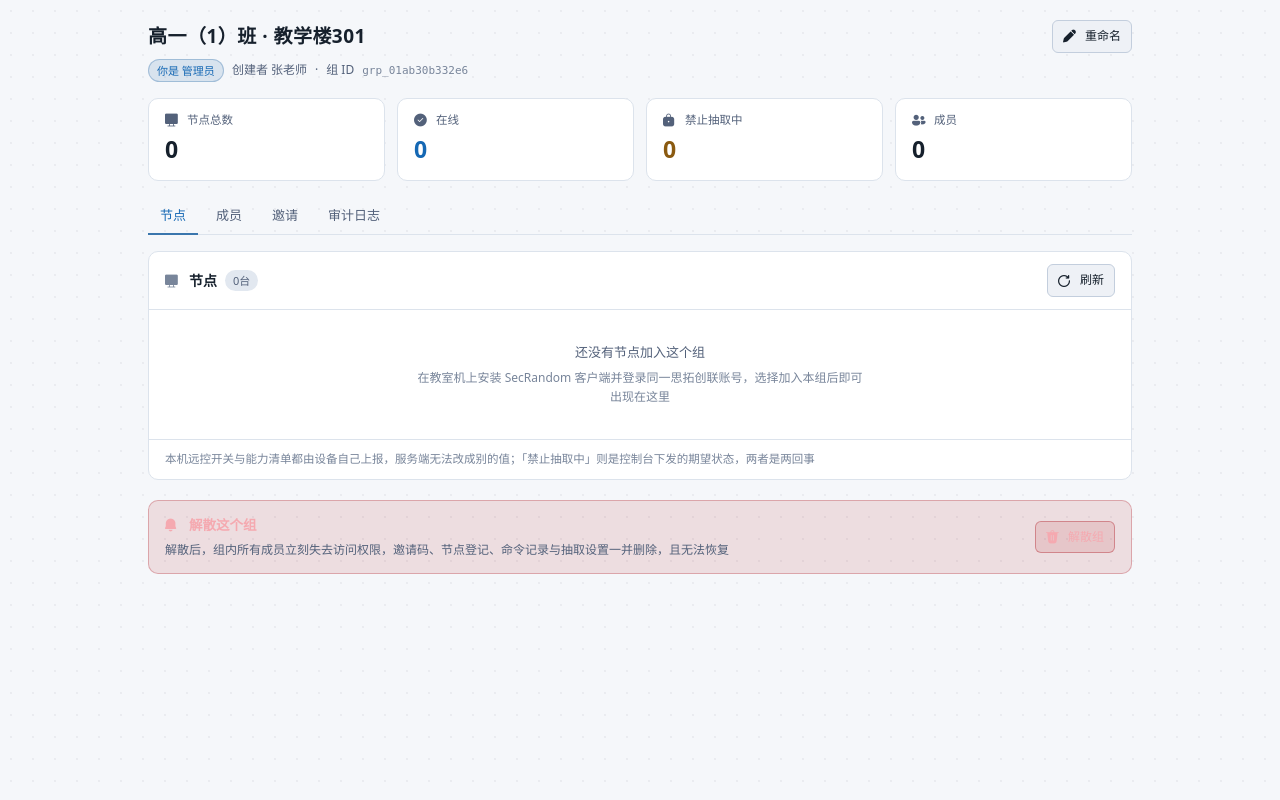
Test: GroupDetailView 转让创建者 › 组记录说我是创建者时，即使成员角色不是 owner 也显示卡片
Click the button with test id "tab-members": point(229, 216) [204, 197, 254, 235]
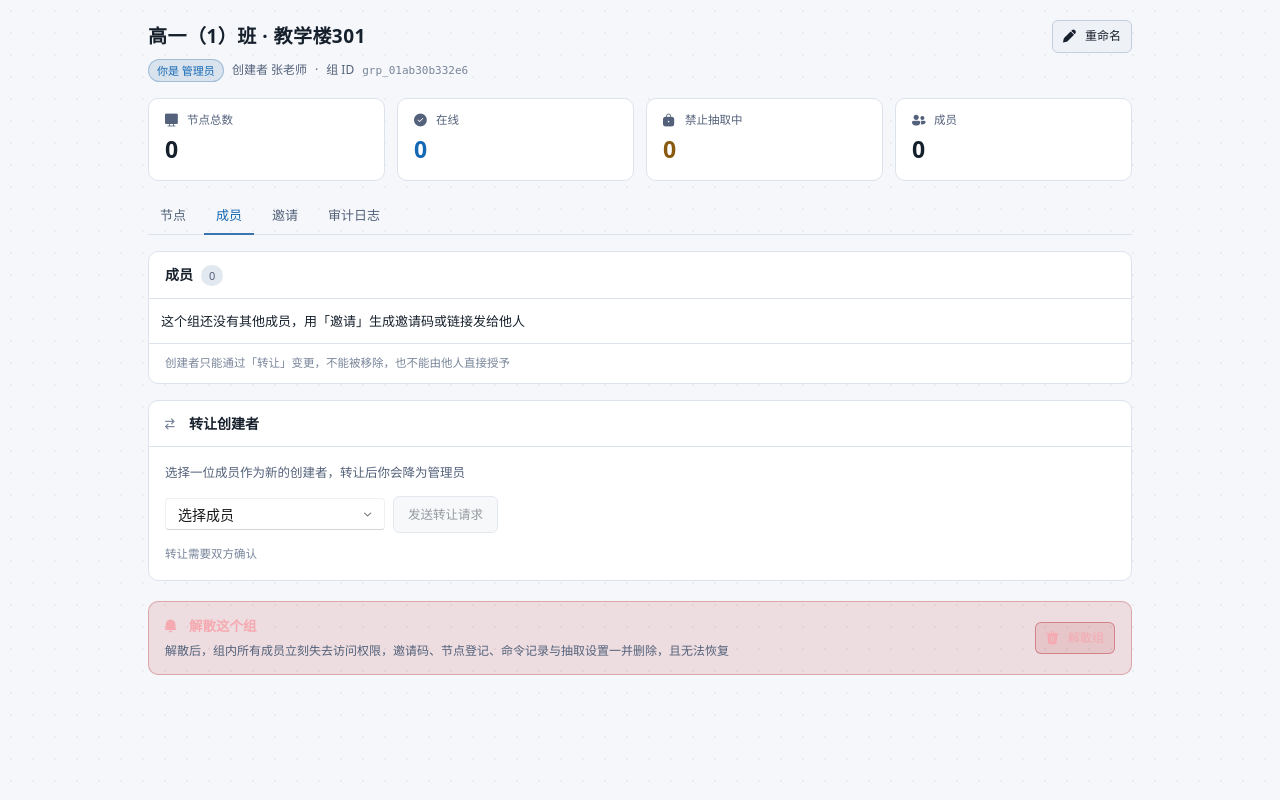
Now the dropdown with test id "transfer-target" is shown, box [165, 498, 385, 530]
